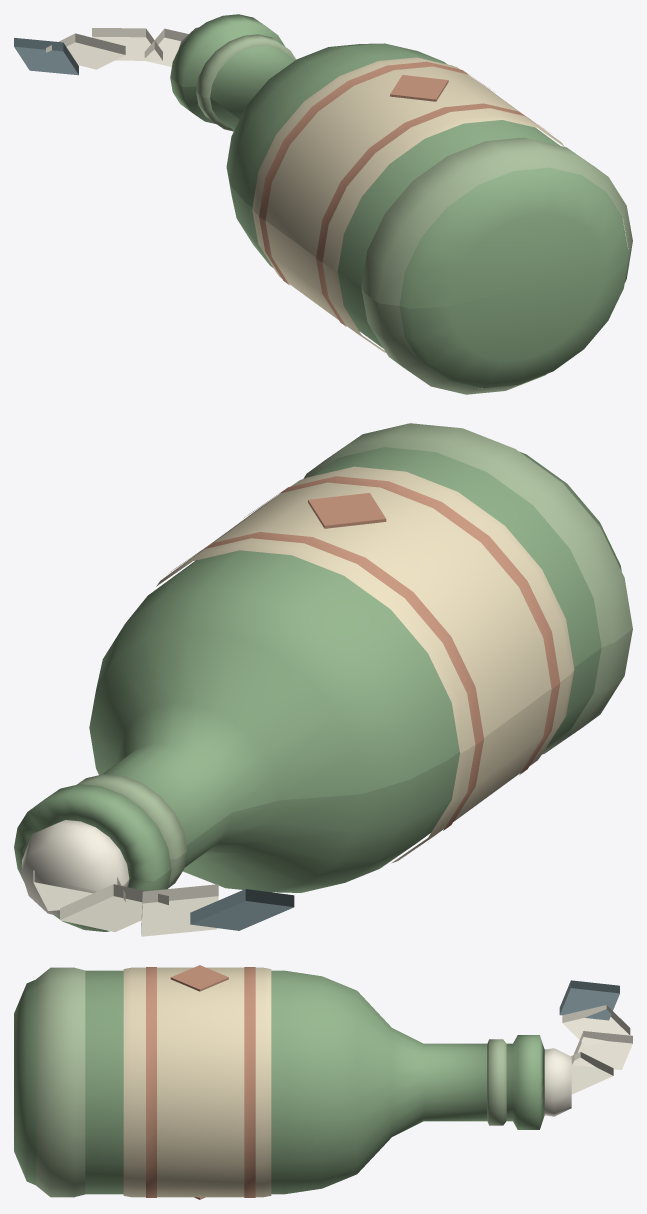
Rendered from molotov.glb.
3 renders of one model, top to bottom at view 1: azimuth 30°, elevation 25°; view 2: azimuth 150°, elevation 25°; view 3: azimuth 270°, elevation 25°, orthographic. The views are drawn at different scales.
Parts seen in each view (by area): view 1: static:bottle-green, static:bottle-label, static:bottle-rim, static:bottle-ink, static:bottle-wick, static:secondary-carbon; view 2: static:bottle-green, static:bottle-label, static:bottle-rim, static:bottle-wick, static:bottle-ink, static:secondary-carbon; view 3: static:bottle-green, static:bottle-label, static:bottle-rim, static:bottle-ink, static:bottle-wick, static:secondary-carbon.
Boxes of the visible parts, x1,y1,x2,y2 form: static:bottle-green: (170,14,629,388); static:bottle-label: (252,57,564,352); static:bottle-rim: (196,34,632,394); static:bottle-ink: (259,61,549,326); static:bottle-wick: (46,27,198,69); static:secondary-carbon: (14,38,78,75); static:bottle-green: (14,447,621,931); static:bottle-label: (156,466,574,863); static:bottle-rim: (77,423,632,887); static:bottle-wick: (21,820,218,936); static:bottle-ink: (171,476,560,830); static:secondary-carbon: (190,889,294,930); static:bottle-green: (14,970,544,1194); static:bottle-label: (123,967,271,1197); static:bottle-rim: (36,967,506,1197); static:bottle-ink: (146,965,255,1199); static:bottle-wick: (544,1005,632,1116); static:secondary-carbon: (559,980,619,1020).
Bounding box in the file's own units: 0.2134 × 0.1635 × 0.4363.
